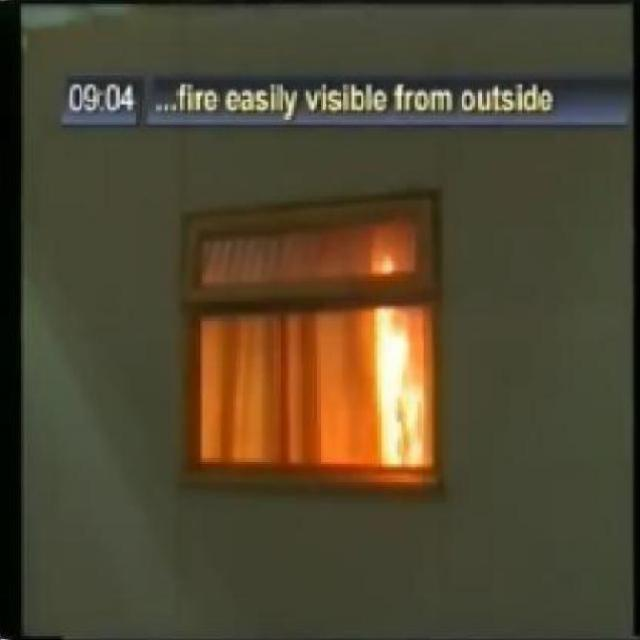smoke: (371, 248, 444, 471)
